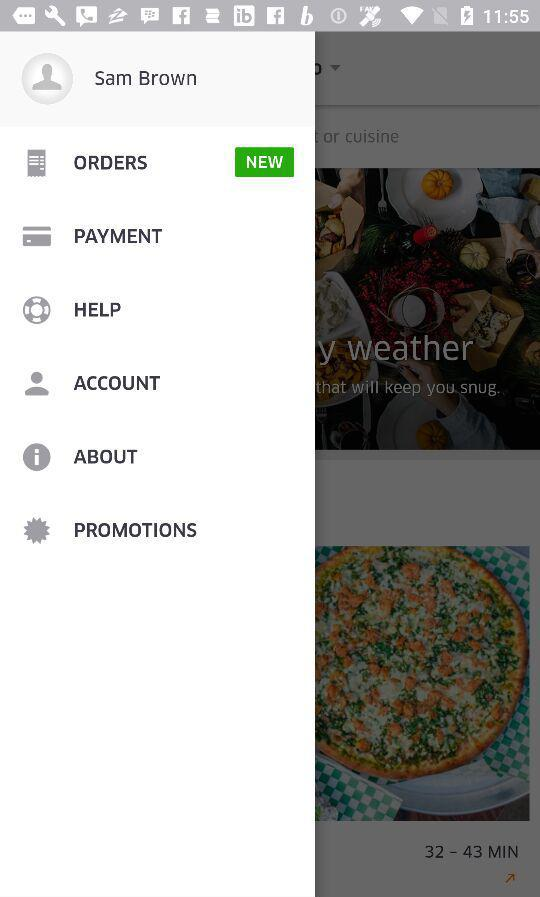Drawer: (1, 33, 316, 897)
Icon: (22, 53, 75, 107), (23, 443, 52, 472), (23, 226, 53, 248), (25, 372, 51, 397), (27, 149, 48, 178)
Image: (23, 296, 52, 326), (24, 517, 52, 545)
Text: (75, 522, 198, 539), (95, 71, 198, 88), (75, 228, 163, 245), (74, 375, 161, 392), (74, 155, 149, 172), (74, 449, 139, 466), (75, 302, 123, 319)
TextButton: (235, 147, 295, 178)
UpperTaskBar: (1, 1, 540, 33)
